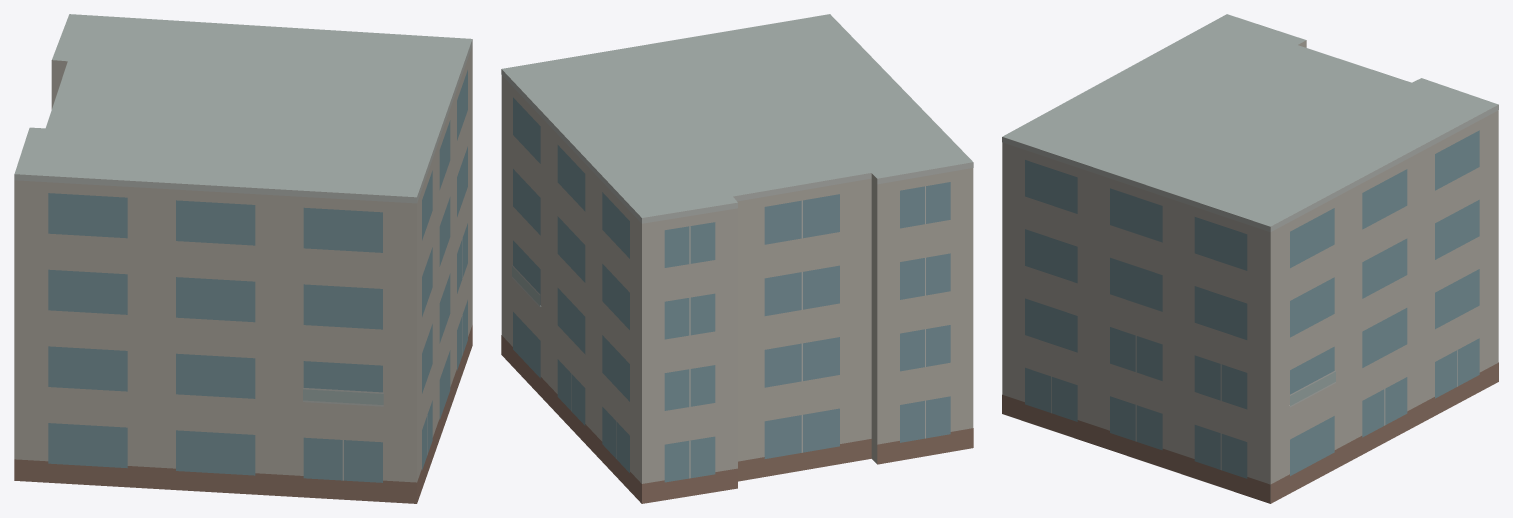
File: survey-upis-32975558.glb
The picture shows the model from 3 angles, left to right: view 1: azimuth 30°, elevation 25°; view 2: azimuth 150°, elevation 25°; view 3: azimuth 270°, elevation 25°; orthographic projection. The views are drawn at different scales.
Visible parts, largest first — view 1: survey-upis-32975558.tmp; view 2: survey-upis-32975558.tmp; view 3: survey-upis-32975558.tmp.
Boxes of the visible parts, x1,y1,x2,y2 form: survey-upis-32975558.tmp: (14,14,472,503); survey-upis-32975558.tmp: (501,14,973,503); survey-upis-32975558.tmp: (1002,14,1498,503).
Bounding box in the file's own units: 20.09 × 12.2 × 19.82.
